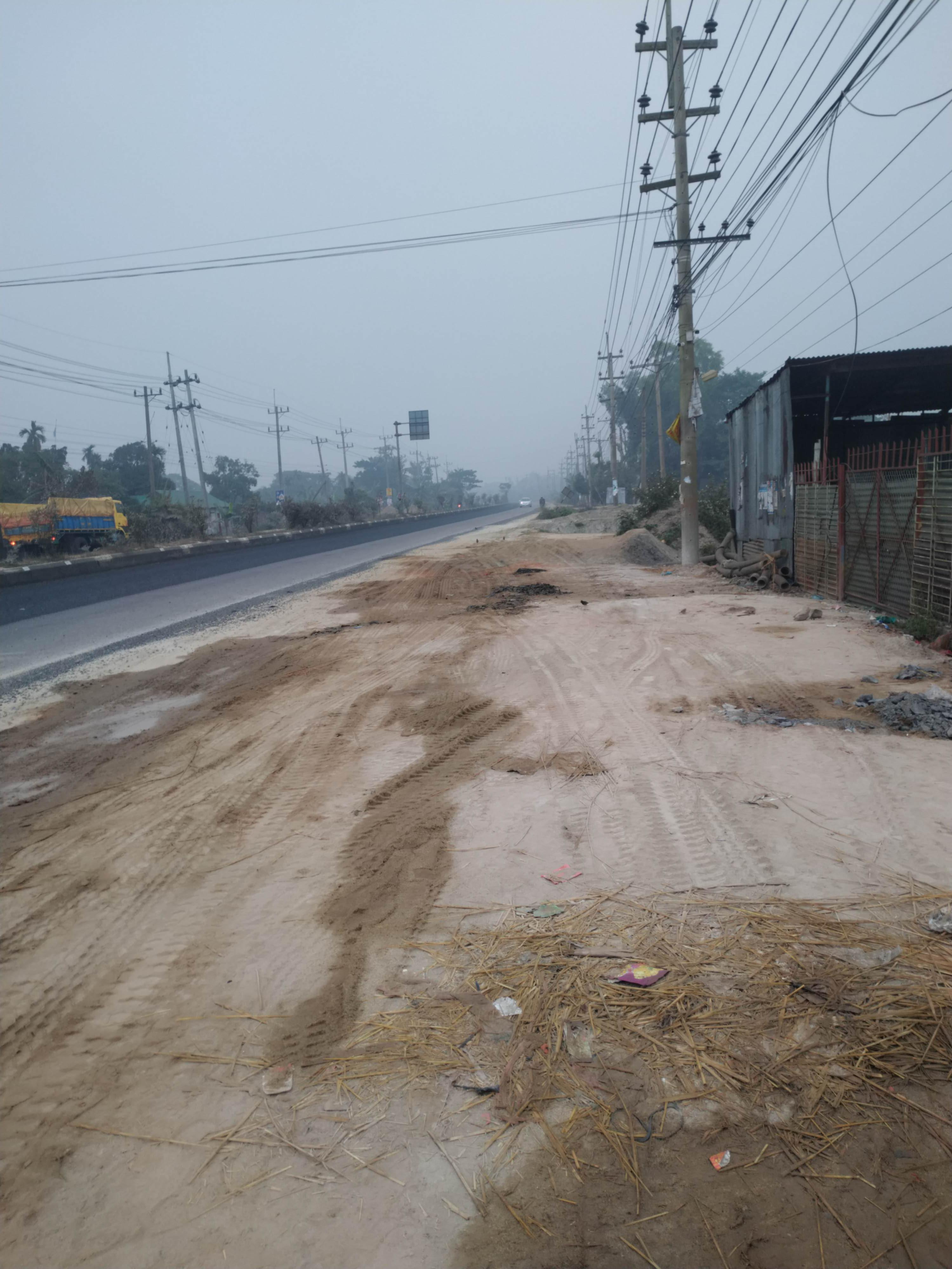Truck: (3, 486, 151, 547)
